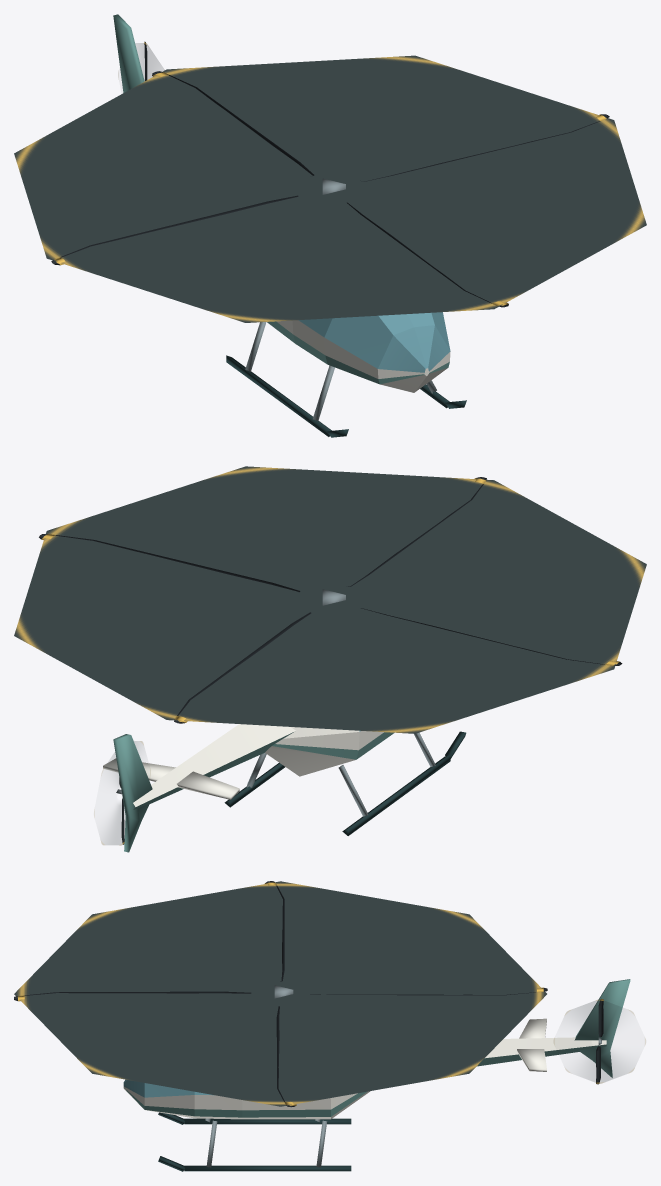
Rendered from helicopter_tour_lod2.glb.
3 views of the same model, one above another, from view 1: azimuth 30°, elevation 25°; view 2: azimuth 150°, elevation 25°; view 3: azimuth 270°, elevation 25° (orthographic). The views are drawn at different scales.
Visible parts, largest first — view 1: rotor_blur_main, airframe, rotor_main, door_front_R; view 2: rotor_blur_main, airframe, rotor_main, rotor_blur_tail; view 3: rotor_blur_main, airframe, rotor_blur_tail, rotor_main, door_L, door_front_L, rotor_tail.
Boxes of the visible parts, box(x1,y1,x2,y2) form: rotor_blur_main: box(14, 55, 646, 322); airframe: box(113, 14, 466, 437); rotor_main: box(51, 71, 609, 307); door_front_R: box(292, 318, 332, 364); rotor_blur_main: box(14, 466, 646, 733); airframe: box(103, 724, 466, 852); rotor_main: box(39, 477, 622, 723); rotor_blur_tail: box(94, 741, 150, 845); rotor_blur_main: box(14, 881, 546, 1106); airframe: box(123, 979, 630, 1171); rotor_blur_tail: box(554, 999, 645, 1083); rotor_main: box(14, 881, 547, 1107); door_L: box(242, 1098, 330, 1117); door_front_L: box(194, 1092, 242, 1117); rotor_tail: box(596, 999, 603, 1084).
Size of the model in its own units: 10.3 by 3.59 by 12.22.
9 materials, 2 textured.
